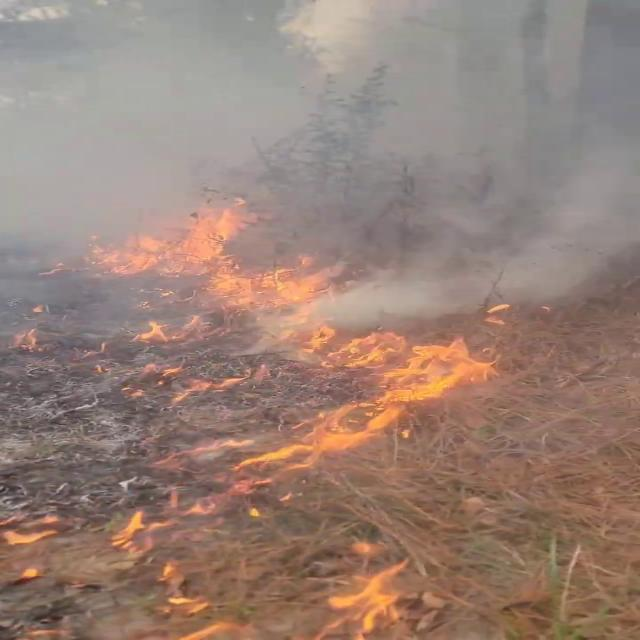Fire: (87, 196, 379, 354), (262, 337, 492, 475)
Smoke: (3, 0, 640, 331)
